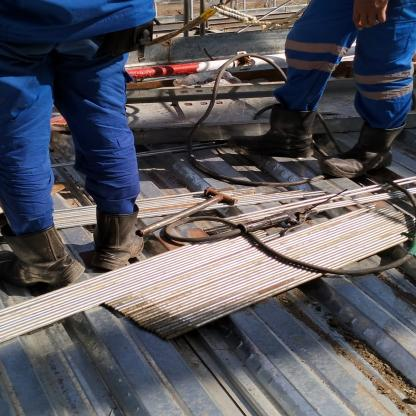bota: (0, 222, 88, 288), (229, 106, 317, 160), (322, 120, 399, 181), (88, 202, 157, 270)
